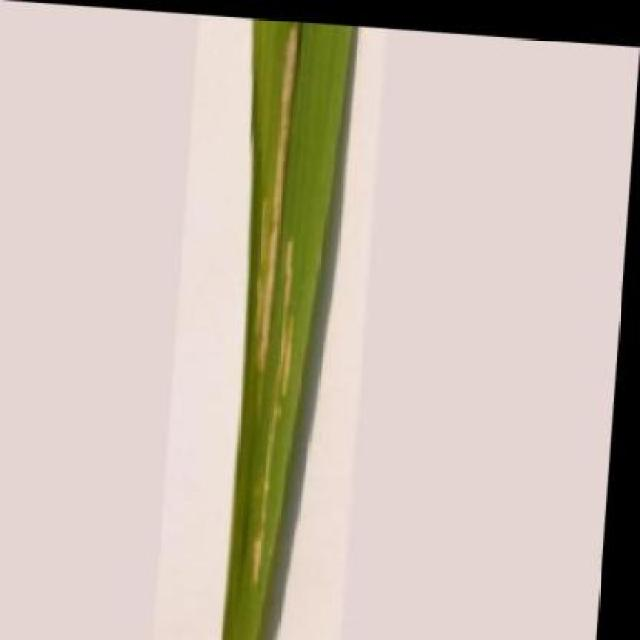Brown_Spot: (210, 14, 358, 640)
